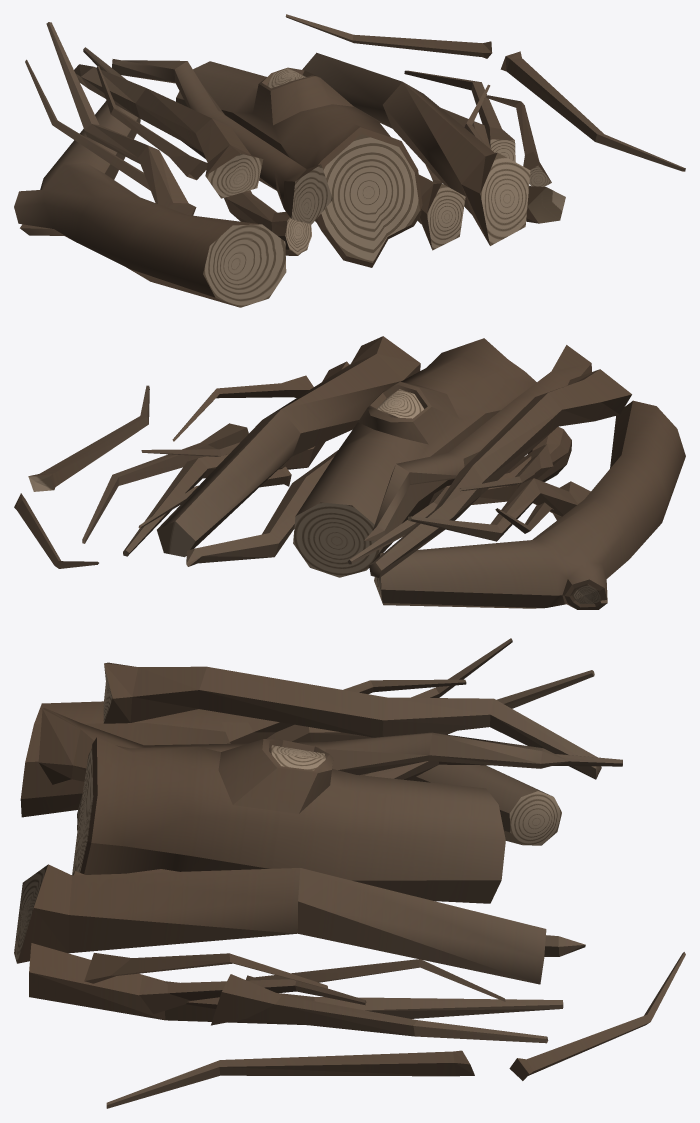
Rendered from PT_Fruit_Tree_01_logs.fbx.
3 views of the same model, one above another, from view 1: azimuth 30°, elevation 25°; view 2: azimuth 150°, elevation 25°; view 3: azimuth 270°, elevation 25° (orthographic). The views are drawn at different scales.
Visible parts, largest first — view 1: PT_Fruit_Tree_01_logs; view 2: PT_Fruit_Tree_01_logs; view 3: PT_Fruit_Tree_01_logs.
Part boxes in pixels (x1=…): PT_Fruit_Tree_01_logs: x1=14, y1=14, x2=685, y2=307; PT_Fruit_Tree_01_logs: x1=14, y1=336, x2=685, y2=609; PT_Fruit_Tree_01_logs: x1=14, y1=638, x2=685, y2=1108.
Size of the model in its own units: 271 by 67.33 by 217.
